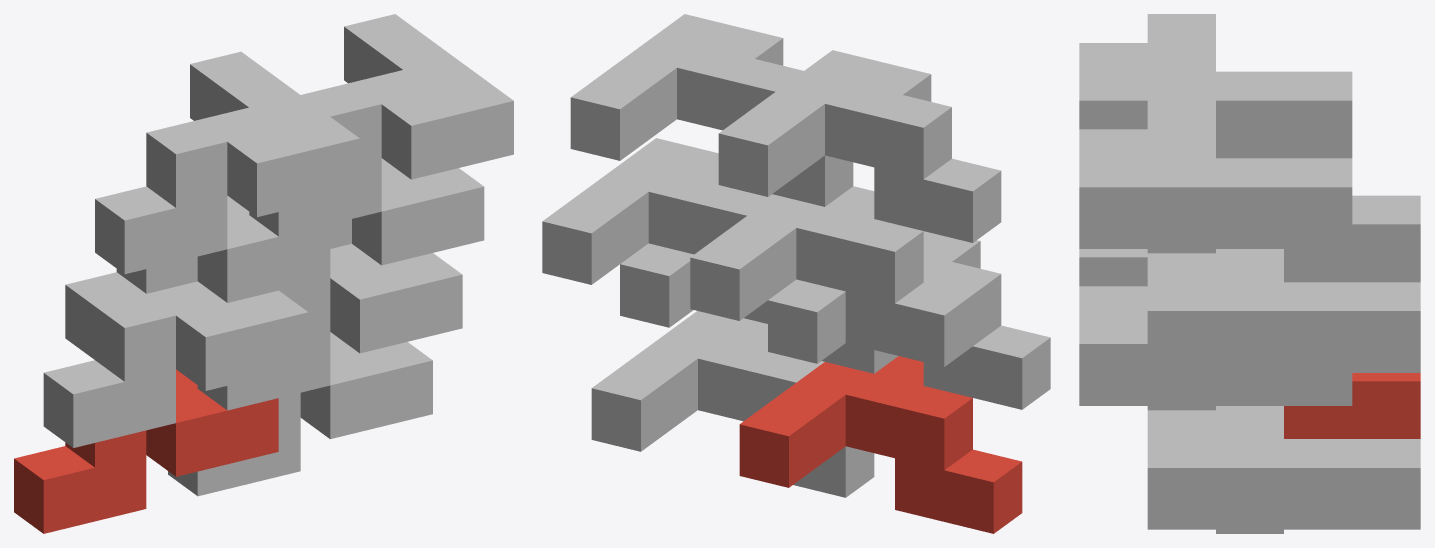
File: tiling.obj
The picture shows the model from 3 angles, left to right: view 1: azimuth 30°, elevation 25°; view 2: azimuth 150°, elevation 25°; view 3: azimuth 270°, elevation 25°; orthographic projection. The views are drawn at different scales.
Parts seen in each view (by area): view 1: copy_1_domain_4, copy_1_domain_2, copy_1_domain_8, copy_1_domain_1, copy_1_domain_6, copy_1_domain_5, copy_1_domain_3, copy_1_domain_7; view 2: copy_1_domain_4, copy_1_domain_3, copy_1_domain_1, copy_1_domain_8, copy_1_domain_5, copy_1_domain_7, copy_1_domain_2, copy_1_domain_6; view 3: copy_1_domain_8, copy_1_domain_5, copy_1_domain_7, copy_1_domain_4, copy_1_domain_6, copy_1_domain_3, copy_1_domain_1, copy_1_domain_2.
Part boxes in pixels (x1=…): copy_1_domain_4: x1=95, y1=51, x2=359, y2=274; copy_1_domain_2: x1=43, y1=281, x2=308, y2=447; copy_1_domain_8: x1=249, y1=14, x2=513, y2=236; copy_1_domain_1: x1=14, y1=369, x2=278, y2=533; copy_1_domain_6: x1=197, y1=244, x2=462, y2=410; copy_1_domain_5: x1=168, y1=332, x2=432, y2=496; copy_1_domain_3: x1=65, y1=195, x2=330, y2=359; copy_1_domain_7: x1=330, y1=158, x2=484, y2=265; copy_1_domain_4: x1=718, y1=50, x2=1001, y2=242; copy_1_domain_3: x1=690, y1=186, x2=972, y2=366; copy_1_domain_1: x1=739, y1=356, x2=1022, y2=533; copy_1_domain_8: x1=570, y1=14, x2=853, y2=206; copy_1_domain_5: x1=591, y1=311, x2=874, y2=497; copy_1_domain_7: x1=542, y1=138, x2=774, y2=323; copy_1_domain_2: x1=768, y1=231, x2=1050, y2=409; copy_1_domain_6: x1=620, y1=243, x2=897, y2=373; copy_1_domain_8: x1=1079, y1=100, x2=1352, y2=253; copy_1_domain_5: x1=1147, y1=406, x2=1420, y2=533; copy_1_domain_7: x1=1147, y1=249, x2=1420, y2=372; copy_1_domain_4: x1=1079, y1=14, x2=1352, y2=158; copy_1_domain_6: x1=1079, y1=286, x2=1352, y2=410; copy_1_domain_3: x1=1284, y1=195, x2=1420, y2=282; copy_1_domain_1: x1=1284, y1=373, x2=1420, y2=438; copy_1_domain_2: x1=1079, y1=249, x2=1147, y2=286.
Bounding box in the file's own units: 8 × 7 × 5.
